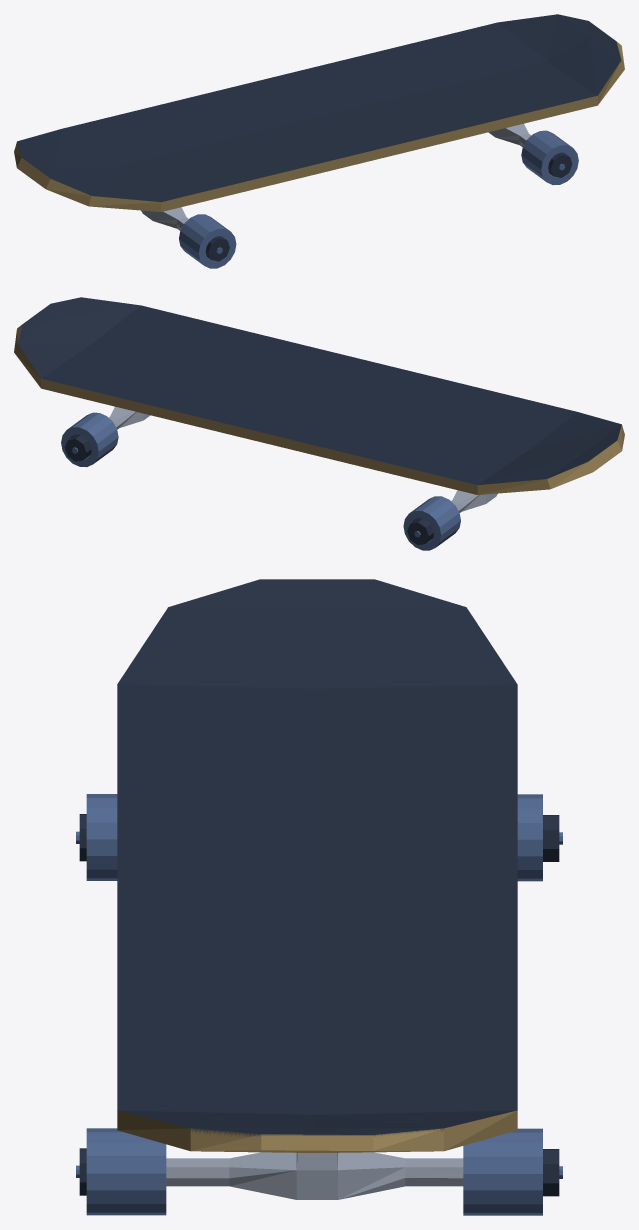
Rendered from CUPIC_SKATEBOARD.obj.
3 views of the same model, one above another, from view 1: azimuth 30°, elevation 25°; view 2: azimuth 150°, elevation 25°; view 3: azimuth 270°, elevation 25° (orthographic). The views are drawn at different scales.
Bounding box in the file's own units: 297 × 43.45 × 109.
1 material, 1 textured.
